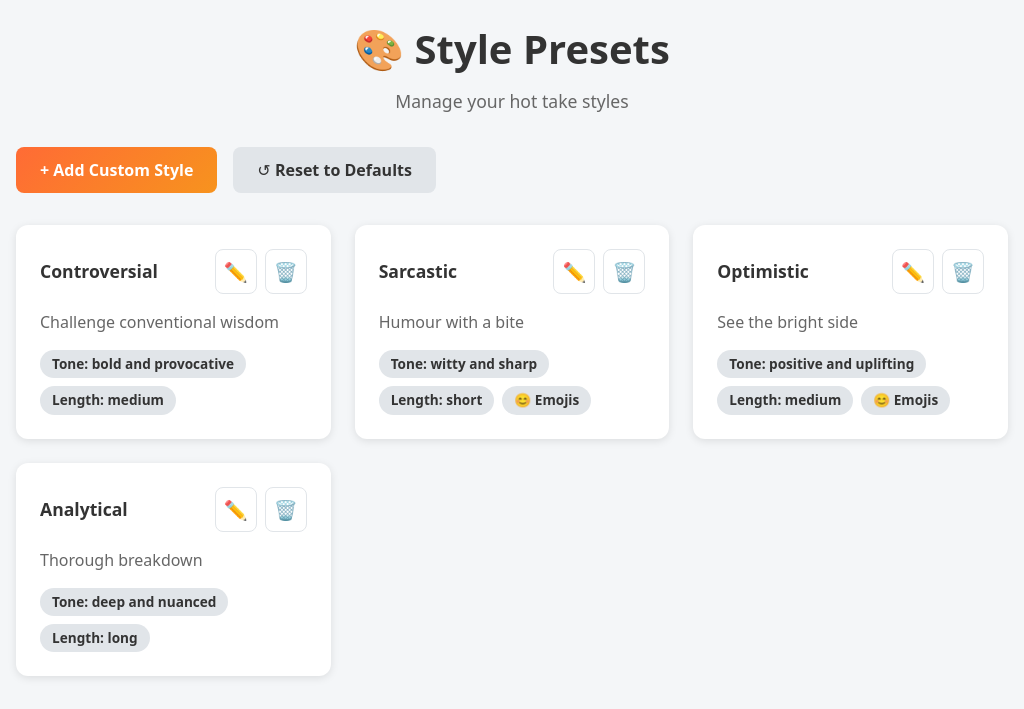
Test: StylesPage › toggles form visibility when add button is clicked again
The width and height of the screenshot is (1024, 709).
Step 1. Click the button "+ Add Custom Style" → (117, 170), box [16, 147, 217, 193]
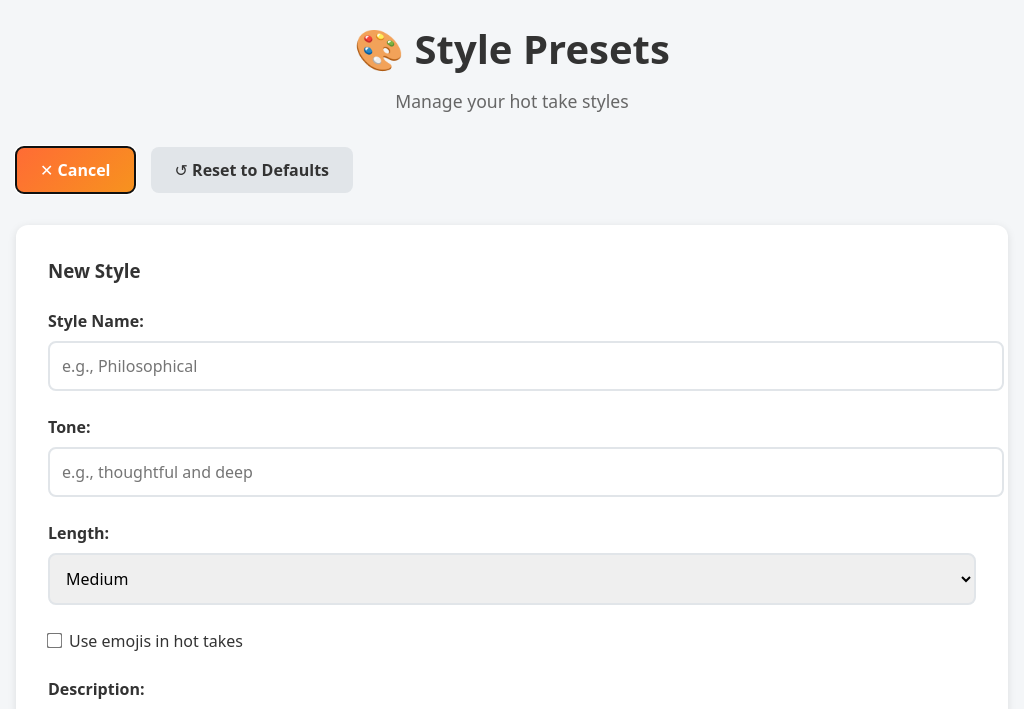
Expected: the heading "New Style" is shown, [48, 258, 141, 283]
// Button text should change to "✕ Cancel"
Step 2. Click the button "✕ Cancel" → (75, 170), box [16, 147, 134, 193]
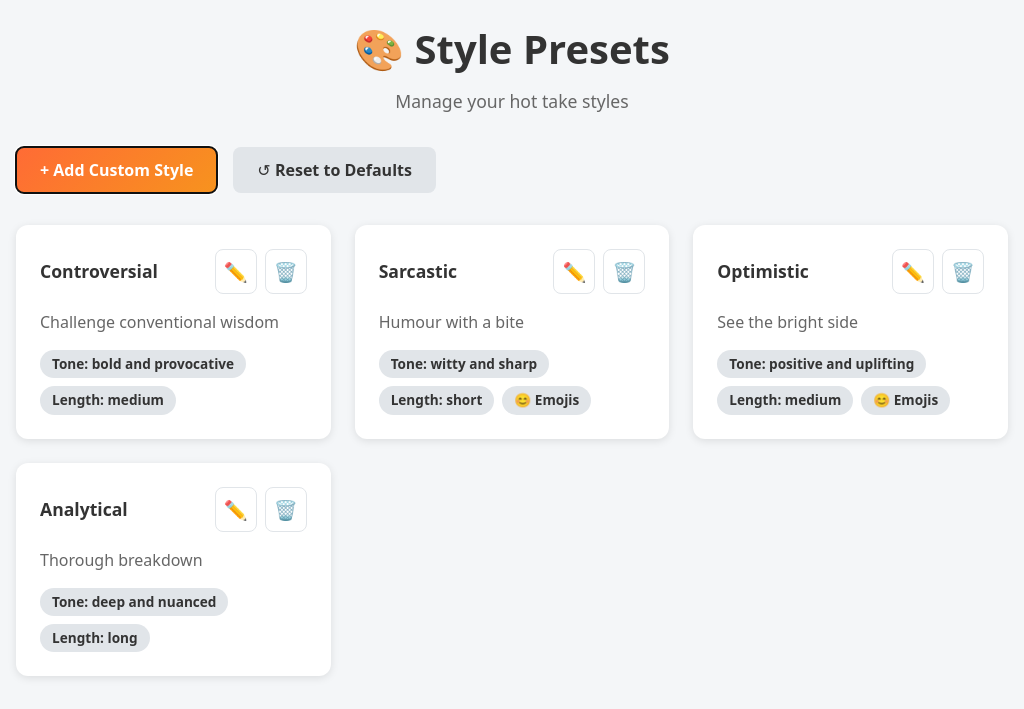
Expected: the heading "New Style" is gone
